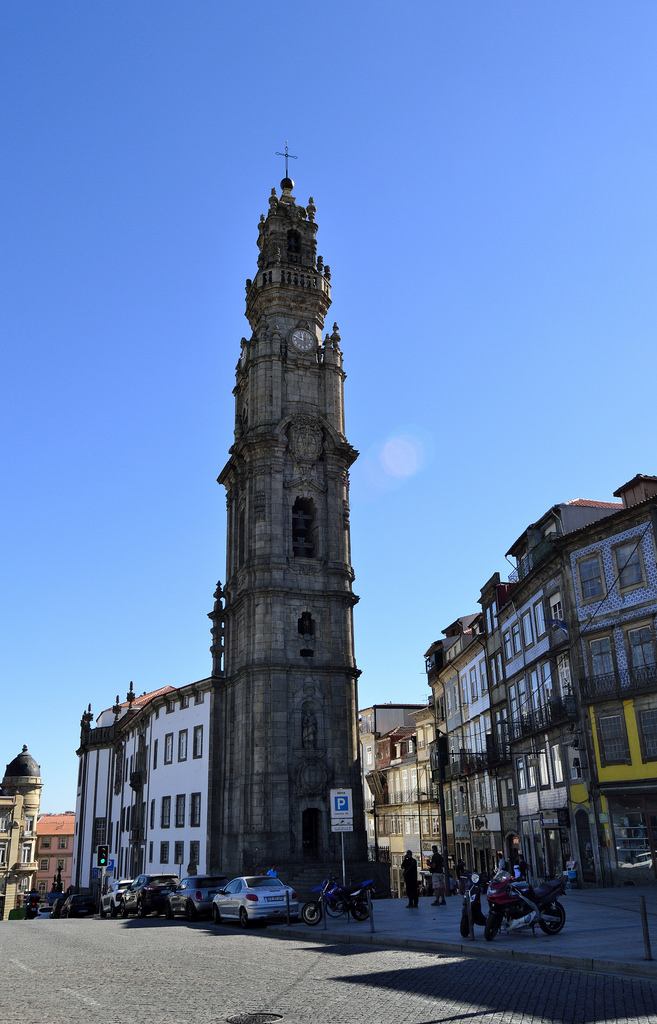clerigos: (206, 139, 371, 885)
